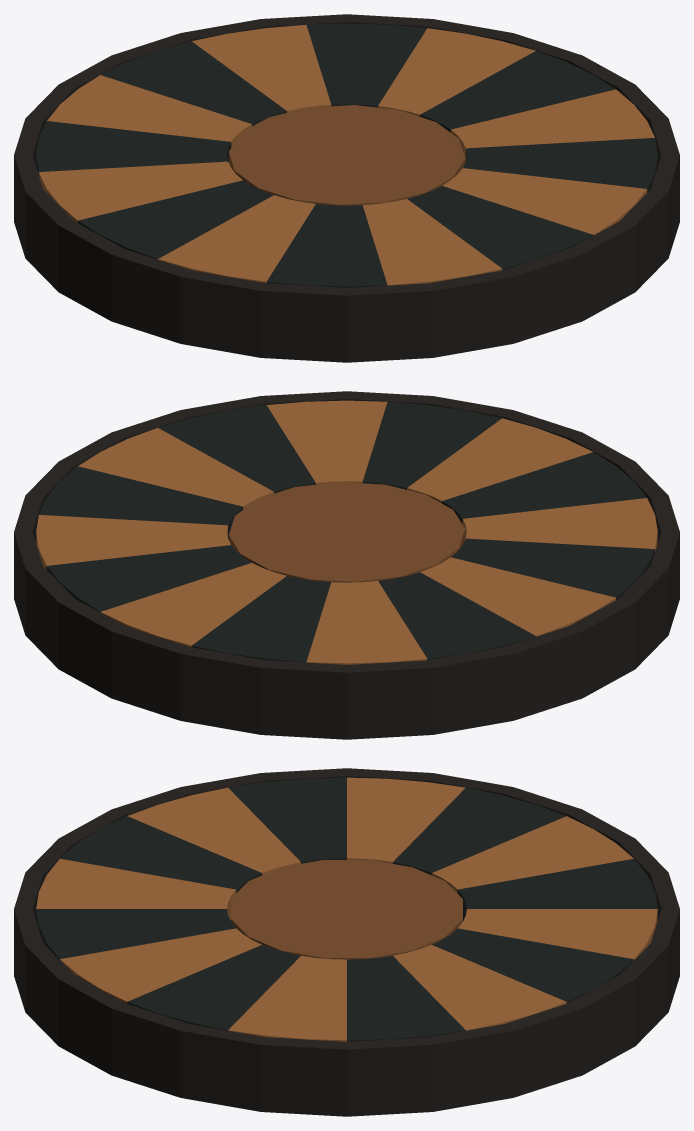
The model's file is lift_platform.glb.
The picture shows the model from 3 angles, top to bottom: view 1: azimuth 30°, elevation 25°; view 2: azimuth 150°, elevation 25°; view 3: azimuth 270°, elevation 25°; orthographic projection.
Visible parts, largest first — view 1: lift_platform.001; view 2: lift_platform.001; view 3: lift_platform.001.
Boxes of the visible parts, left/top/right/bottom form: lift_platform.001: left=14, top=14, right=679, bottom=362; lift_platform.001: left=14, top=391, right=679, bottom=739; lift_platform.001: left=14, top=768, right=679, bottom=1116.
Size of the model in its own units: 9 by 1.7 by 9.
